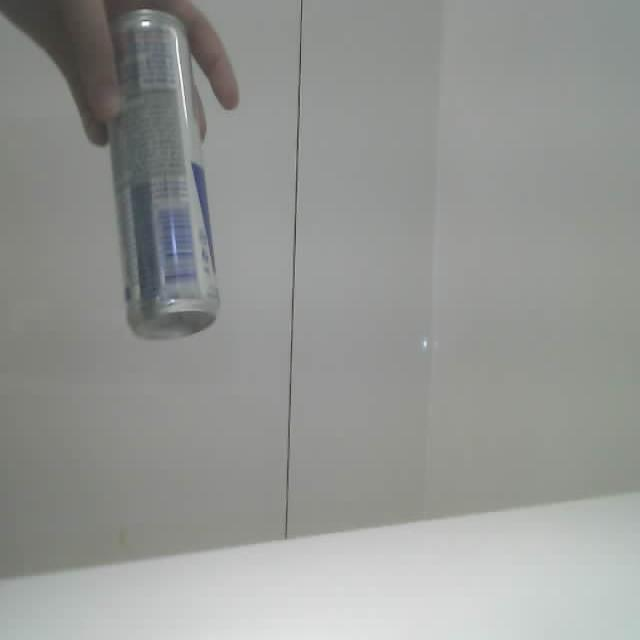redbull can: (109, 10, 218, 338)
